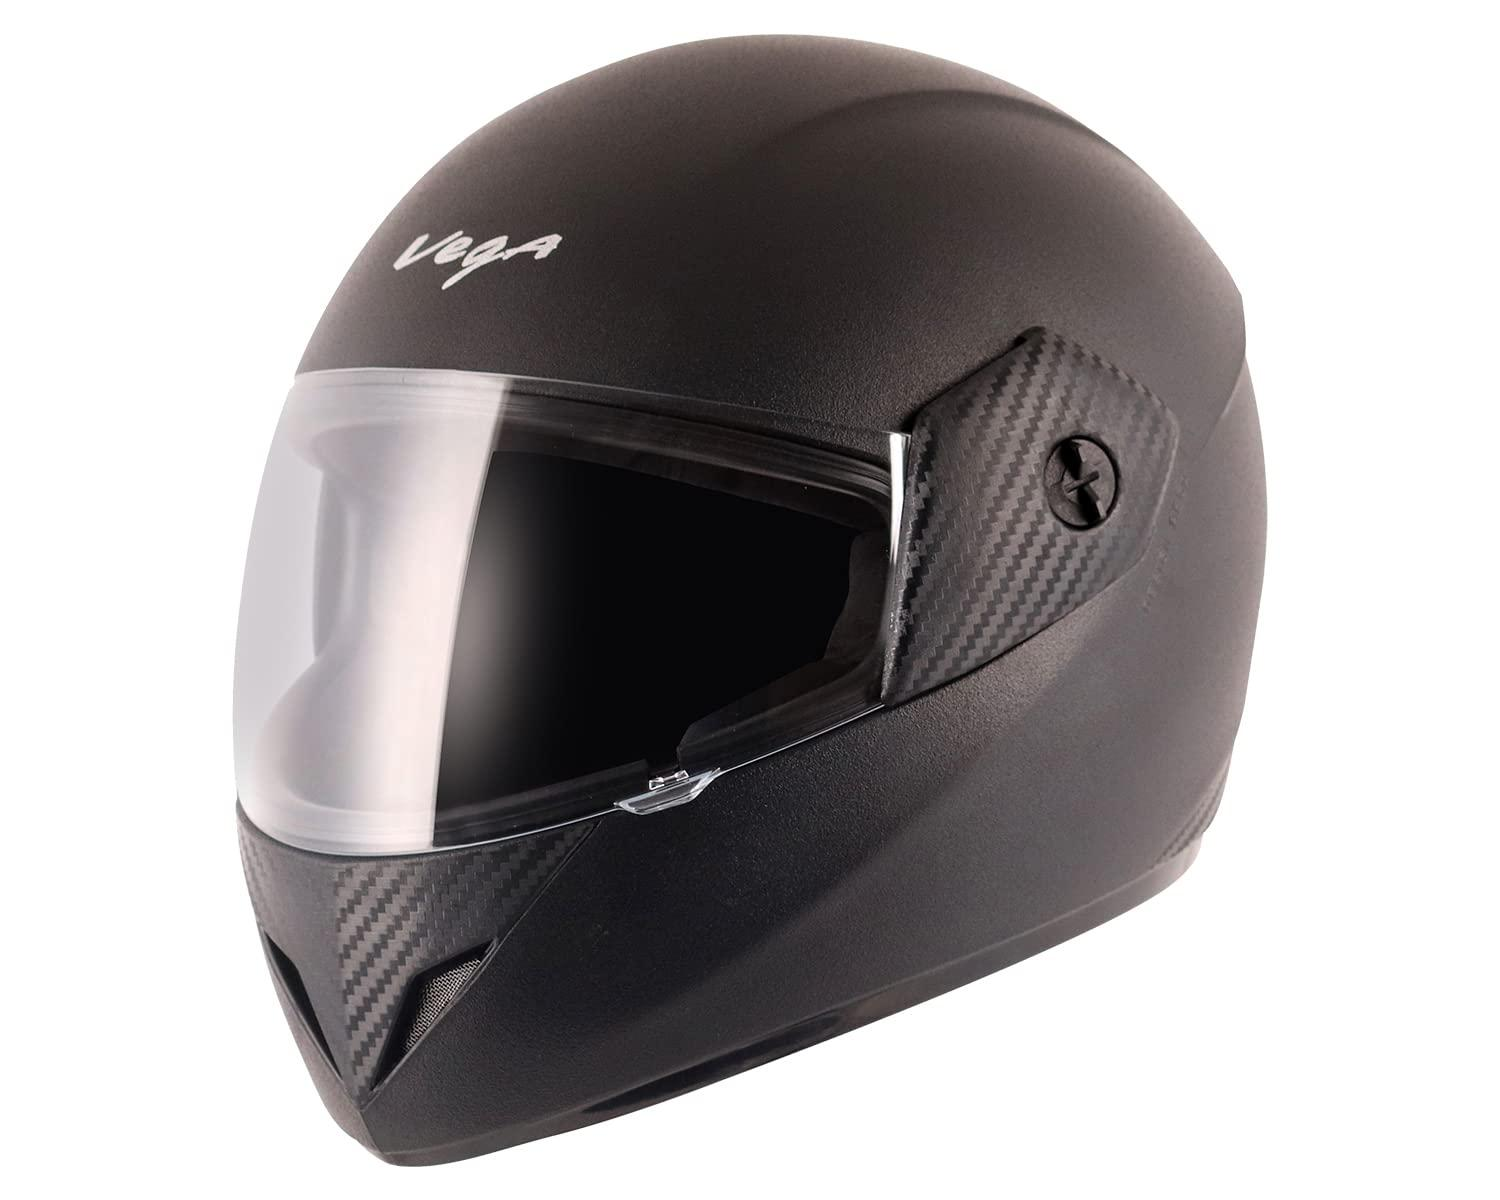helmet: (184, 0, 1282, 1160)
